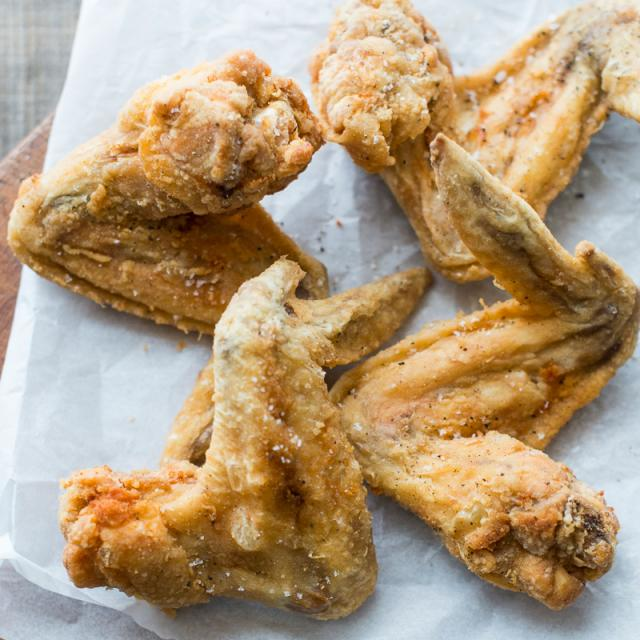Frango: (328, 141, 633, 603), (0, 48, 433, 354), (58, 255, 386, 622), (310, 0, 640, 279)
